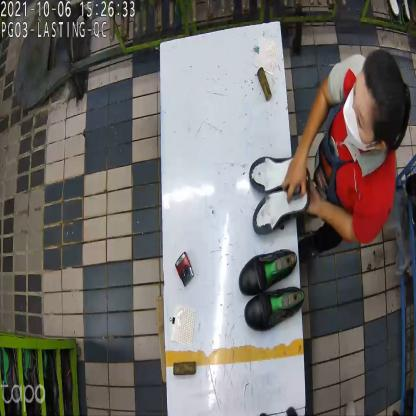shoes: (238, 250, 302, 336), (246, 156, 314, 236)
stamp: (283, 163, 306, 200), (177, 247, 193, 282)
